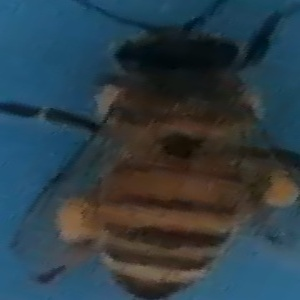bee: (53, 1, 298, 298)
